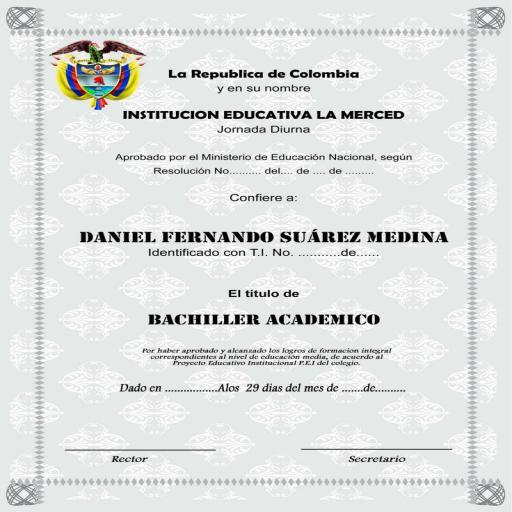bachillerato: (118, 307, 397, 336)
diploma: (35, 33, 477, 486)
escudo: (43, 35, 162, 114)
nombre: (75, 228, 461, 254)
